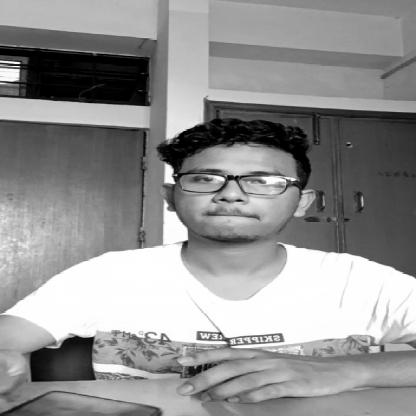Normal: (168, 140, 312, 244)
